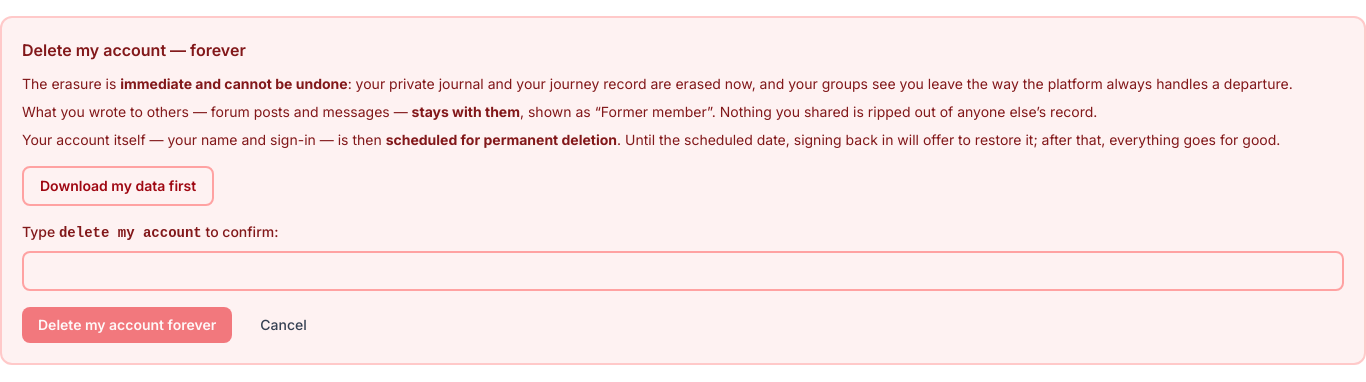
DeleteAccountCeremony (FEAT-H029) › STORY-2: the destructive control stays disabled until the exact phrase is typed
The image size is (1366, 382).
Check: the button with test id "delete-account-confirm" is disabled, box [22,307,232,343]
Type "delete my acc" into the field with test id "delete-confirm-input" at (683, 271), box [22,251,1344,291]
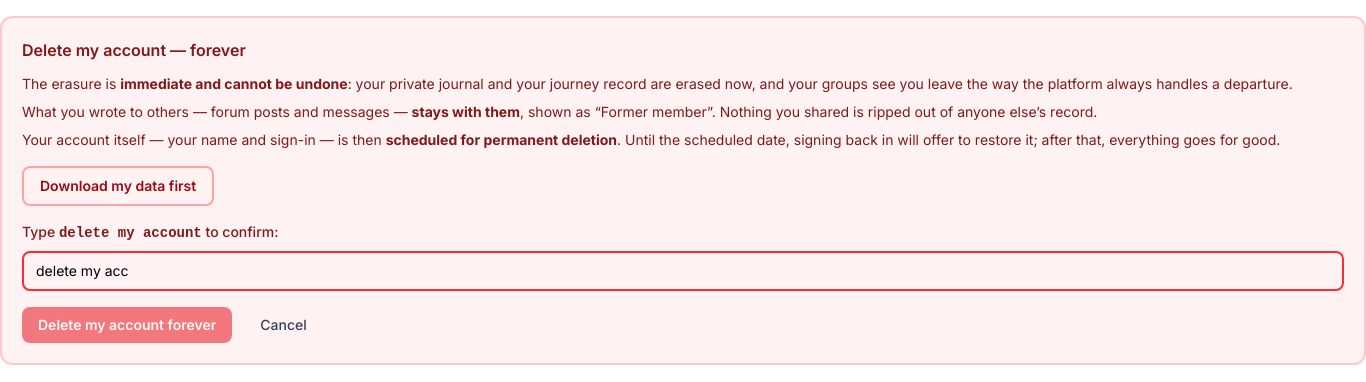
Check: the button with test id "delete-account-confirm" is disabled, box [22,307,232,343]
Replace the text in the field with test id "delete-confirm-input" with "delete my account" at (683, 271), box [22,251,1344,291]
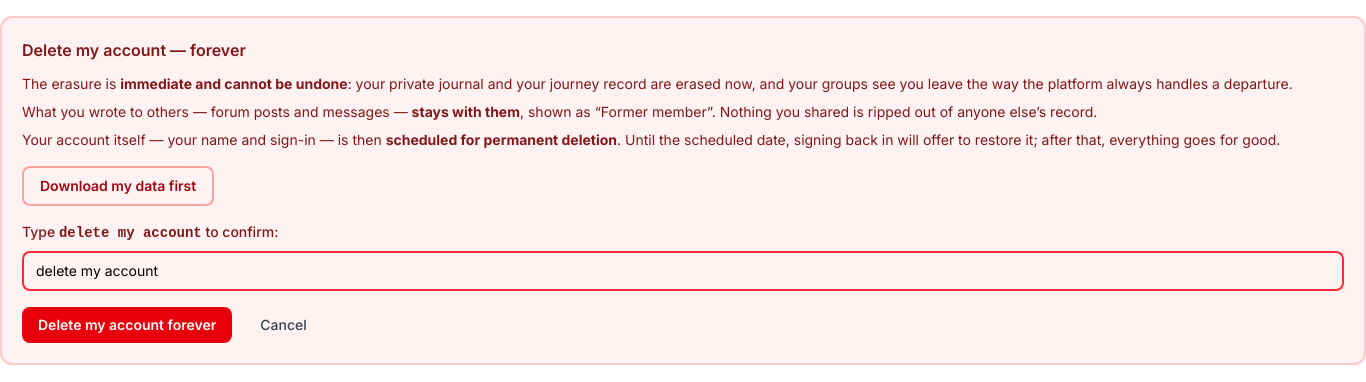
Check: the button with test id "delete-account-confirm" is enabled, box [22,307,232,343]
